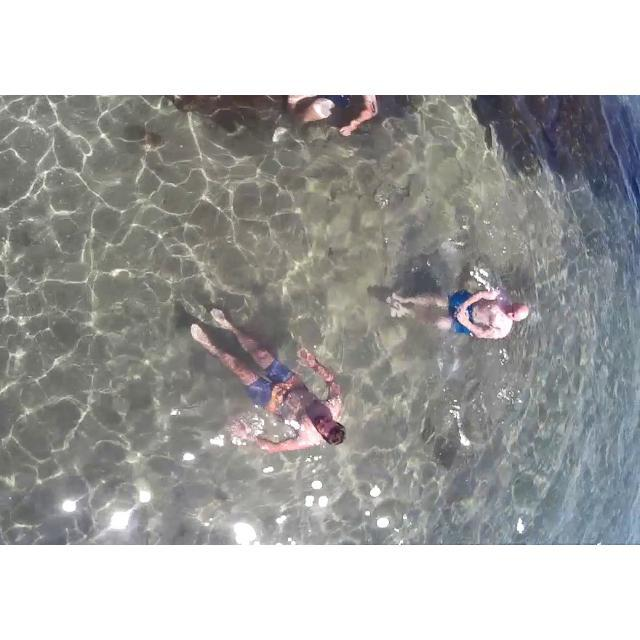human: (184, 290, 351, 464), (394, 262, 533, 349), (267, 95, 384, 160)
